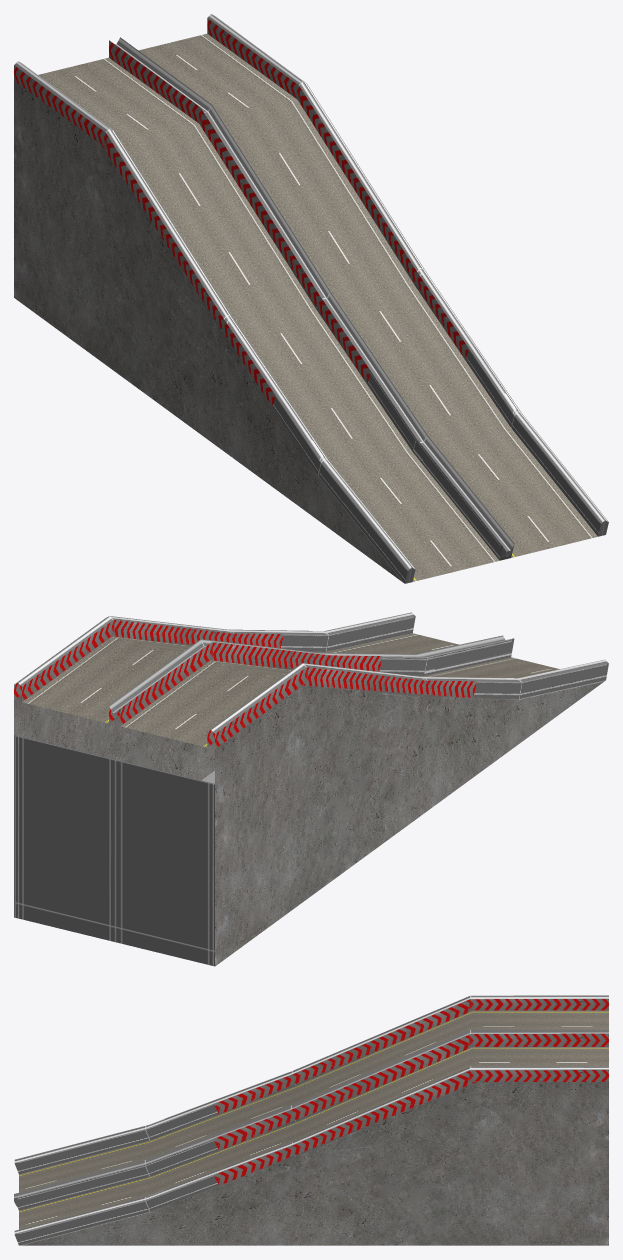
The model's file is heightFO.fbx.
The picture shows the model from 3 angles, top to bottom: view 1: azimuth 30°, elevation 25°; view 2: azimuth 150°, elevation 25°; view 3: azimuth 270°, elevation 25°; orthographic projection. The views are drawn at different scales.
Visible parts, largest first — view 1: heightFO; view 2: heightFO; view 3: heightFO.
Boxes of the visible parts, x1,y1,x2,y2 form: heightFO: [14, 14, 608, 583]; heightFO: [14, 612, 608, 966]; heightFO: [14, 995, 608, 1245].
Bounding box in the file's own units: 60.78 × 68.04 × 206.
Materials: 1 (1 with a texture image).
